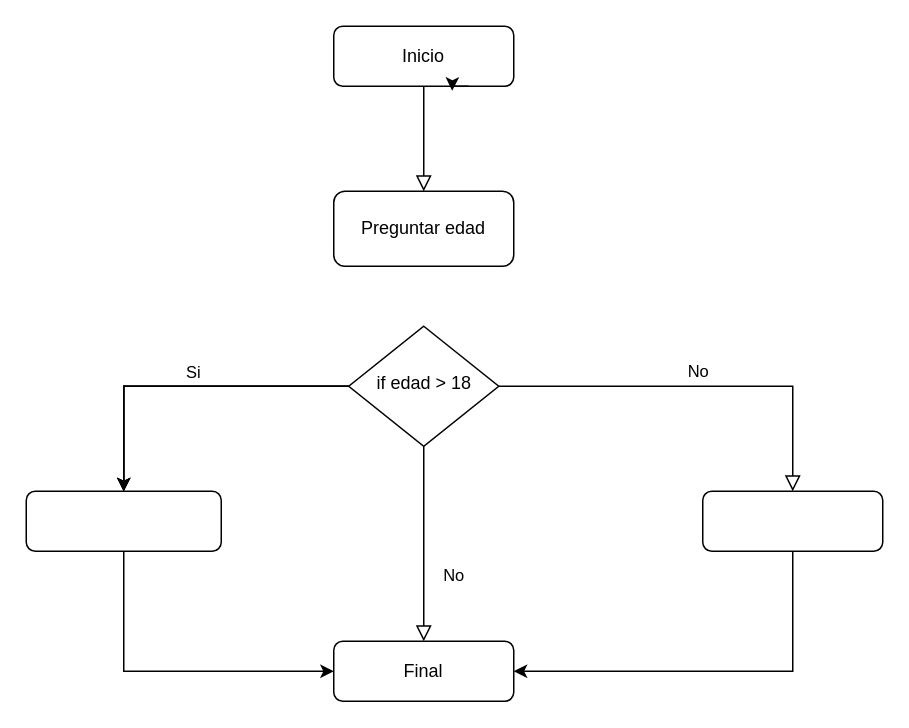
The diagram is 909 pixels wide and 728 high, and some of its shapes have lost their labels. The box of each missing label's shape, as (x1, y1, x2, y2) in pixels:
"Eres Mayor de edad": (25, 490, 221, 551)
"Eres Menor de edad": (701, 490, 883, 551)
